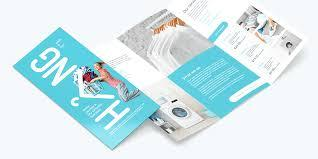paper: (13, 1, 304, 148)
